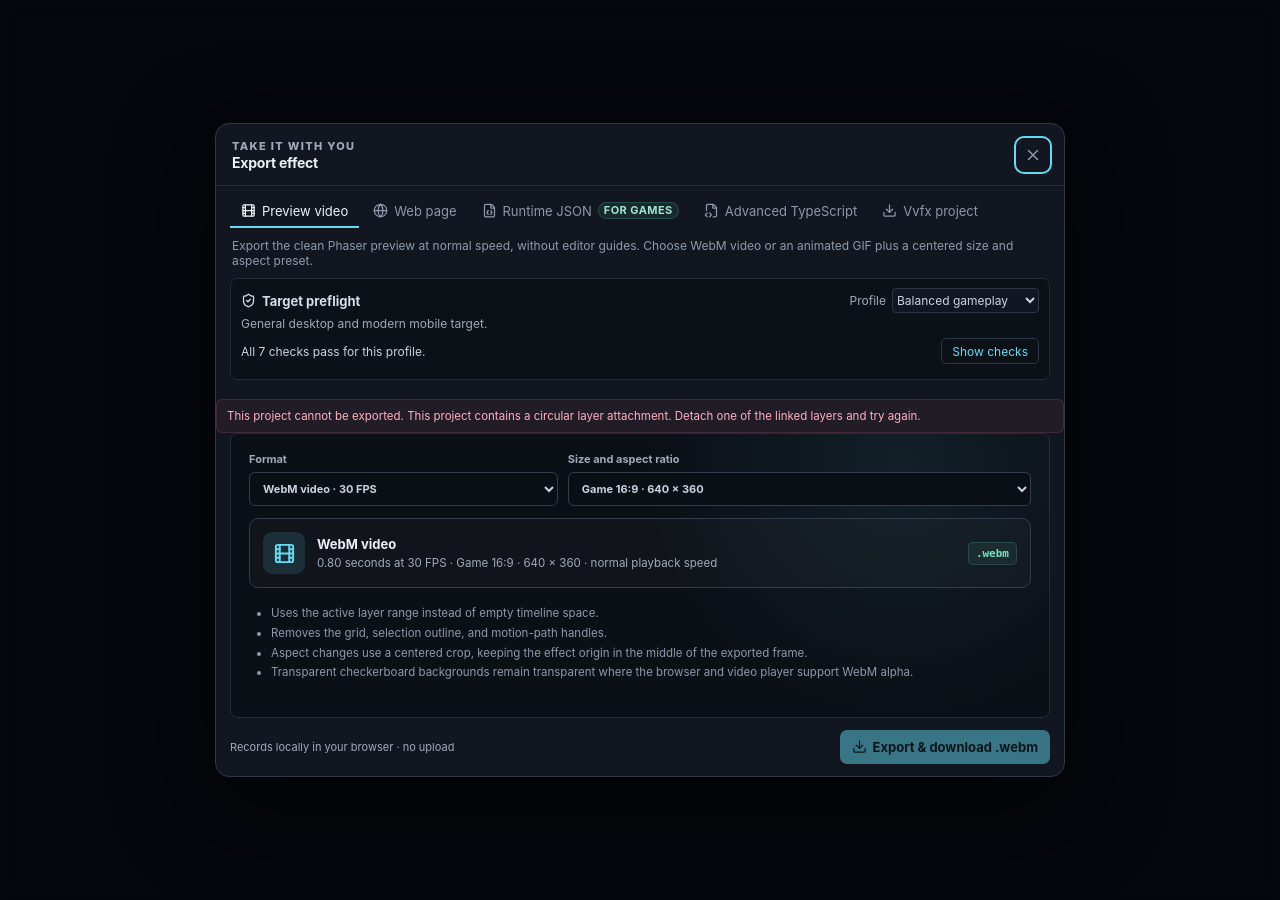
dialog keyboard accessibility › shows a safe preflight error instead of crashing on invalid export state
expect the button "Export & download .webm" is disabled: met, box [840,730,1050,764]
What coordinates should you click on to do the following:
click the tab "Runtime JSON For games"
I would click on:
 (580, 212)
Its box is [470,195,690,228].
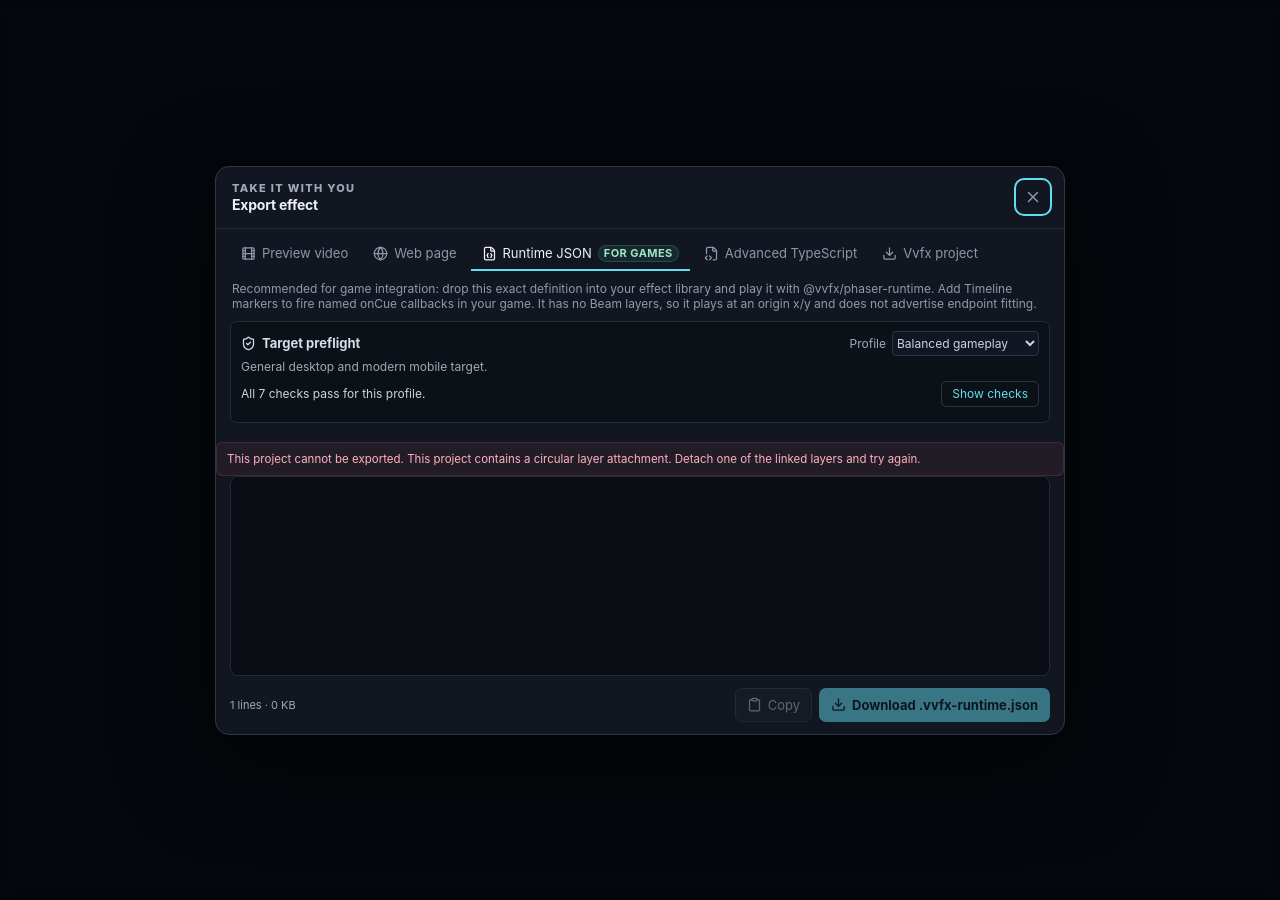
expect the button "Download .vvfx-runtime.json" is disabled: met, box [819,688,1050,722]
expect the button "Copy" is disabled: met, box [735,688,812,722]
